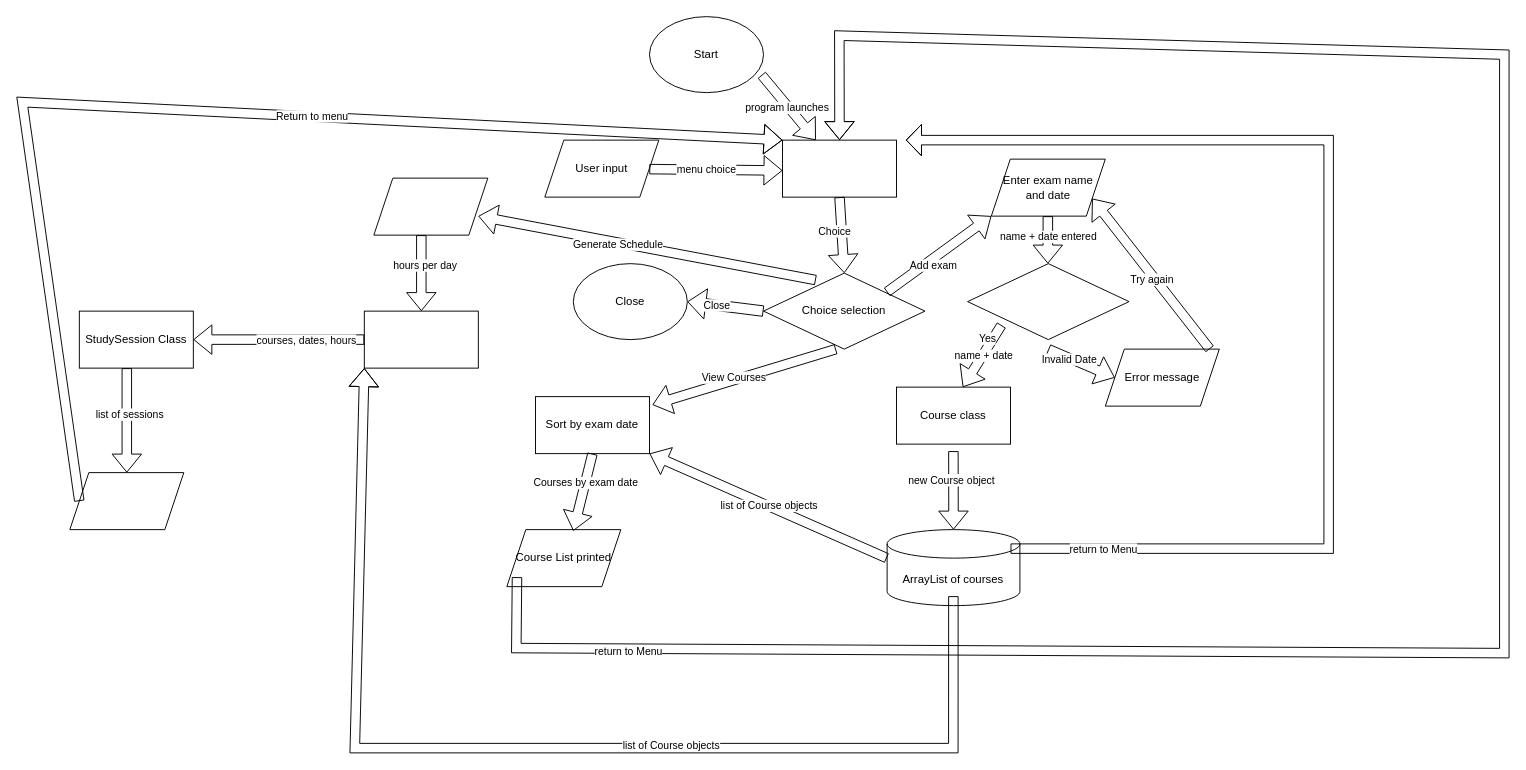
Some shapes in this 1526 by 770 pixel diagram are drawn without their labels. The shapes that lost their labels are listed below. From the top down, each one's centre as x and y in pixels, then its label:
At point 839,168: "Main menu".
At point 430,206: "Enter hours per day".
At point 1048,301: "Valid date?".
At point 420,339: "Planner Class".
At point 126,501: "Daily schedule printed".
